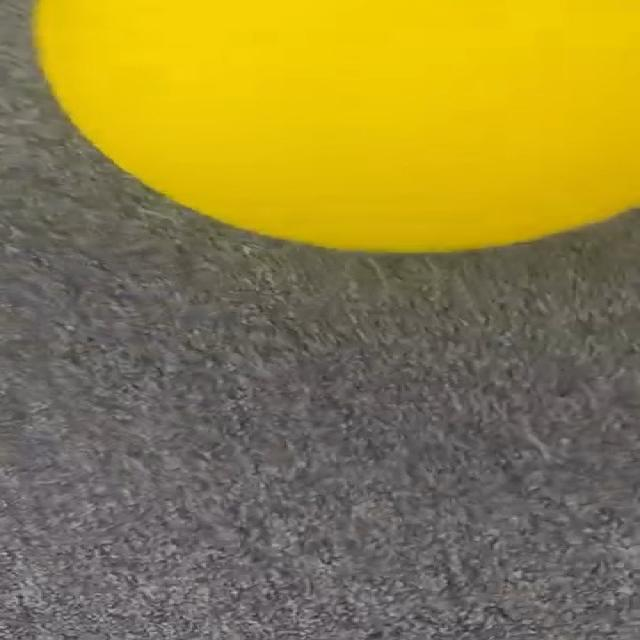Fuels: (36, 0, 638, 251)
